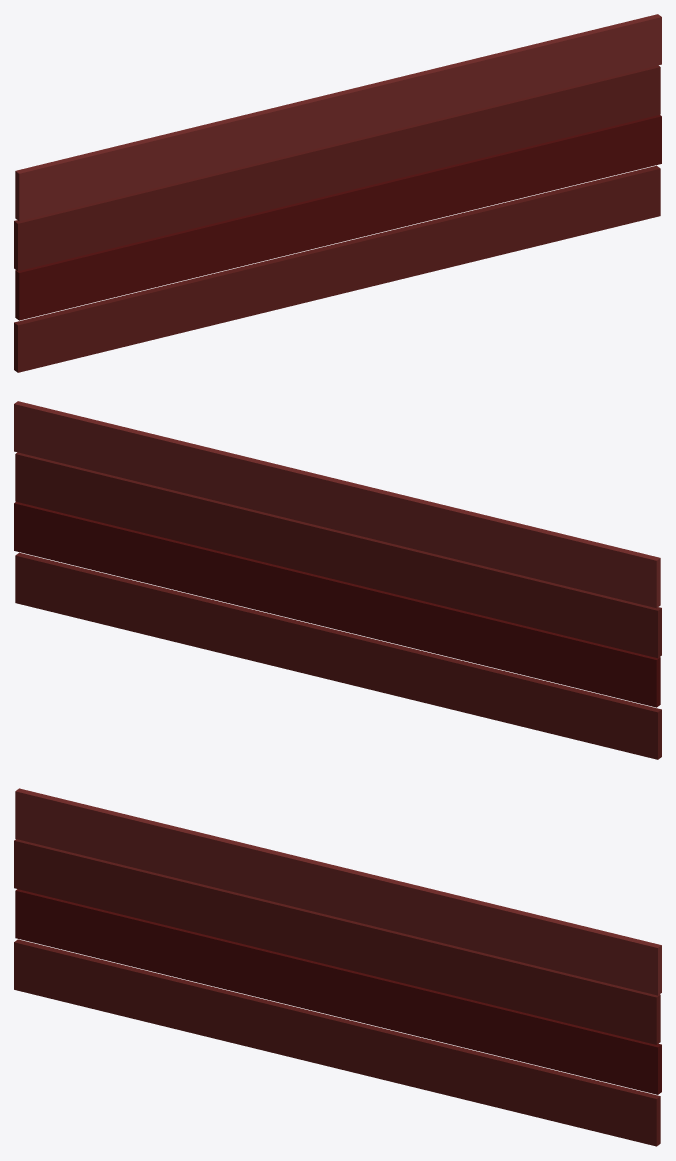
Rendered from wood_walls.fbx.
3 renders of one model, top to bottom at view 1: azimuth 30°, elevation 25°; view 2: azimuth 150°, elevation 25°; view 3: azimuth 330°, elevation 25°, orthographic.
Visible parts, largest first — view 1: wood_walls; view 2: wood_walls; view 3: wood_walls.
Boxes of the visible parts, x1,y1,x2,y2 form: wood_walls: (14,14,661,372); wood_walls: (14,401,661,759); wood_walls: (14,788,661,1146).
Size of the model in its own units: 14.19 by 4.19 by 0.1518.
